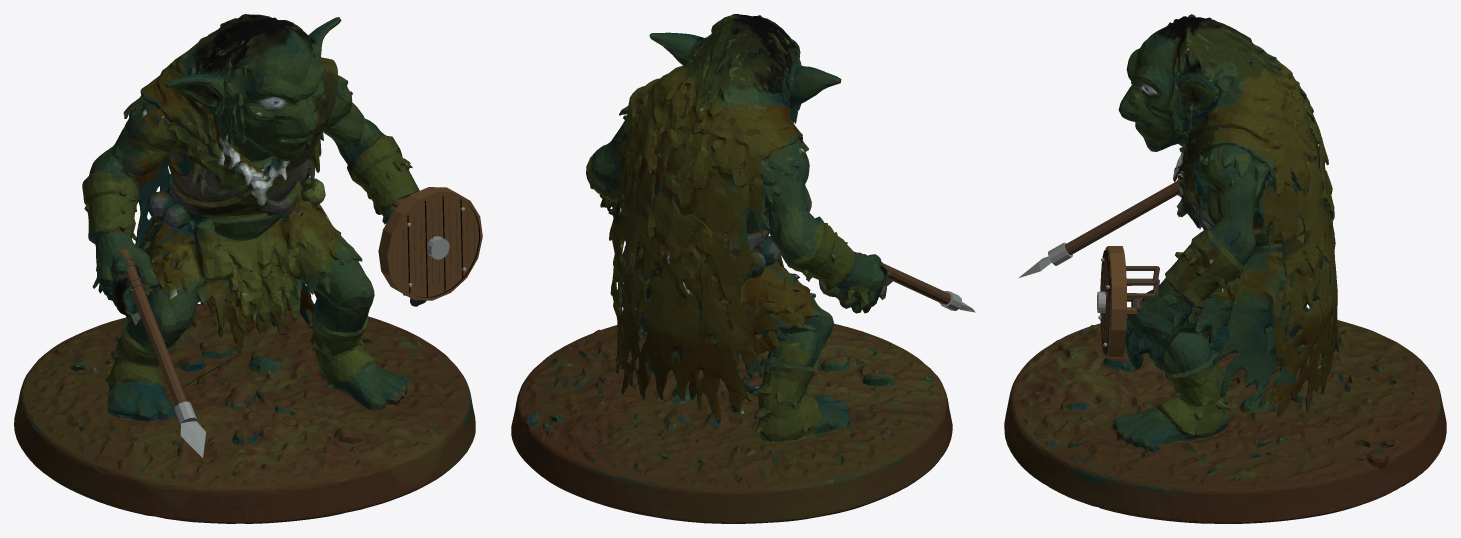
Rendered from goblinCombatente_lanca_curta_com_escudo.glb.
3 renders of one model, left to right at view 1: azimuth 30°, elevation 25°; view 2: azimuth 150°, elevation 25°; view 3: azimuth 270°, elevation 25°, orthographic. The views are drawn at different scales.
Parts seen in each view (by area): view 1: Goblin_combatente_lanca_curta_escudo_p; view 2: Goblin_combatente_lanca_curta_escudo_p; view 3: Goblin_combatente_lanca_curta_escudo_p.
Part boxes in pixels (x1=…): Goblin_combatente_lanca_curta_escudo_p: x1=14, y1=14, x2=482, y2=523; Goblin_combatente_lanca_curta_escudo_p: x1=511, y1=14, x2=975, y2=523; Goblin_combatente_lanca_curta_escudo_p: x1=1004, y1=14, x2=1446, y2=523.
Bounding box in the file's own units: 1.94 × 1.96 × 1.91.
Materials: 11 (6 with a texture image).
